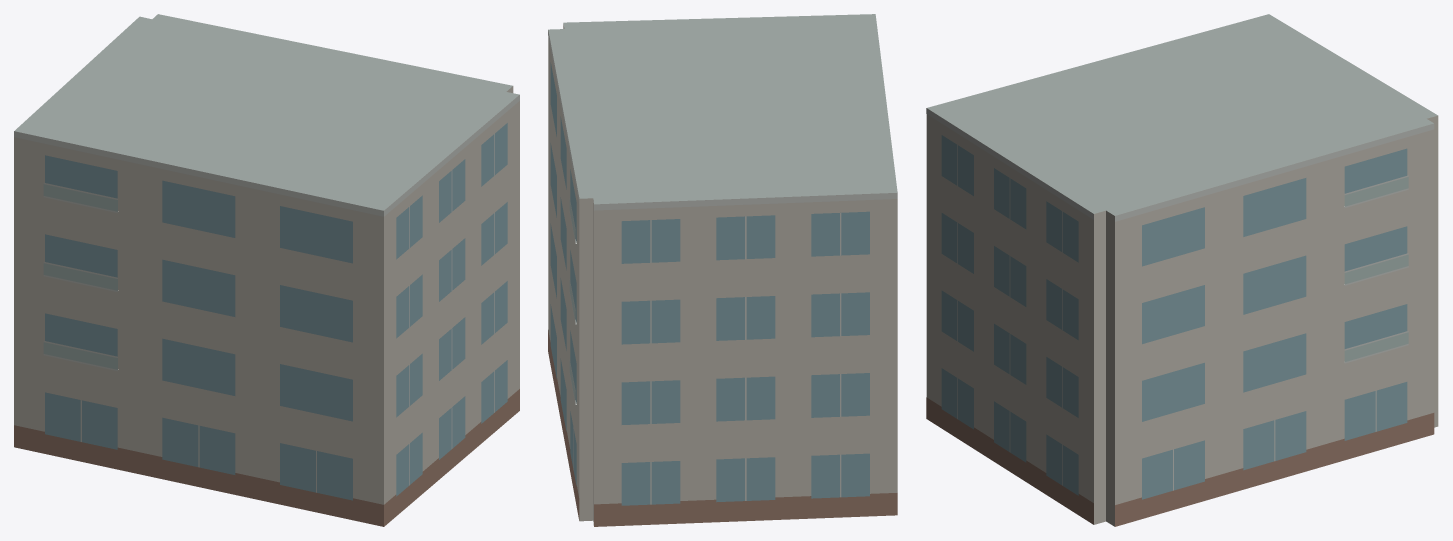
Rendered from survey-upis-32886603.glb.
3 renders of one model, left to right at view 1: azimuth 30°, elevation 25°; view 2: azimuth 150°, elevation 25°; view 3: azimuth 270°, elevation 25°, orthographic. The views are drawn at different scales.
Parts seen in each view (by area): view 1: survey-upis-32886603.tmp; view 2: survey-upis-32886603.tmp; view 3: survey-upis-32886603.tmp.
Boxes of the visible parts, <box> form: survey-upis-32886603.tmp: <box>14,14,519,526</box>; survey-upis-32886603.tmp: <box>548,14,897,526</box>; survey-upis-32886603.tmp: <box>926,14,1438,526</box>.
Bounding box in the file's own units: 17.84 × 12.8 × 19.11.
